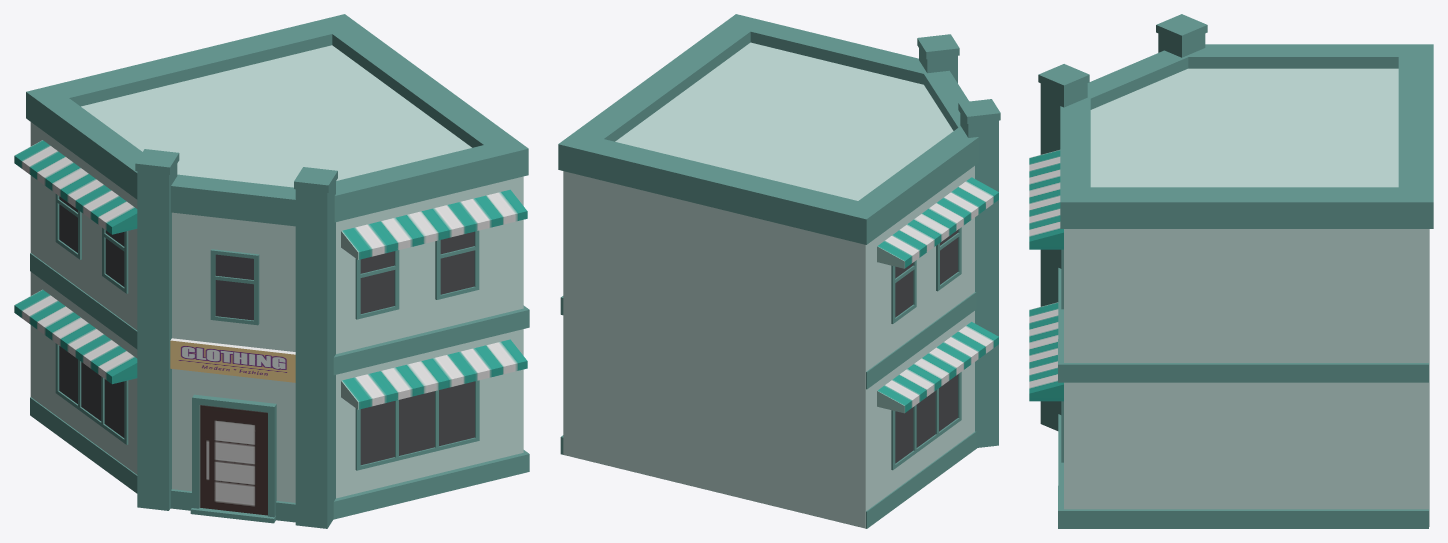
Rendered from Building_Clothing.fbx.
3 views of the same model, side by side, from view 1: azimuth 30°, elevation 25°; view 2: azimuth 150°, elevation 25°; view 3: azimuth 270°, elevation 25° (orthographic). The views are drawn at different scales.
Parts seen in each view (by area): view 1: Building_Clothing; view 2: Building_Clothing; view 3: Building_Clothing.
Part boxes in pixels (x1=…): Building_Clothing: x1=14, y1=14, x2=529, y2=528; Building_Clothing: x1=558, y1=14, x2=1000, y2=528; Building_Clothing: x1=1029, y1=14, x2=1433, y2=528.
Size of the model in its own units: 1213 by 1161 by 1216.
